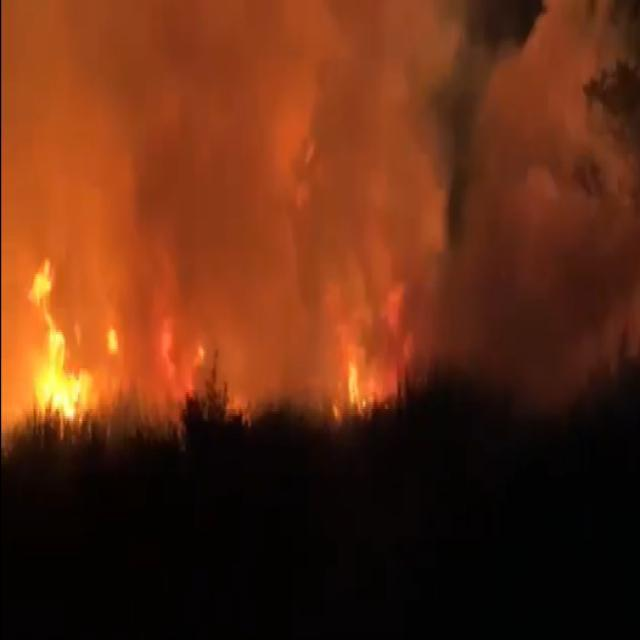Fire: (24, 264, 108, 430), (148, 313, 219, 432), (331, 336, 386, 432)
Smoke: (61, 44, 318, 361)
